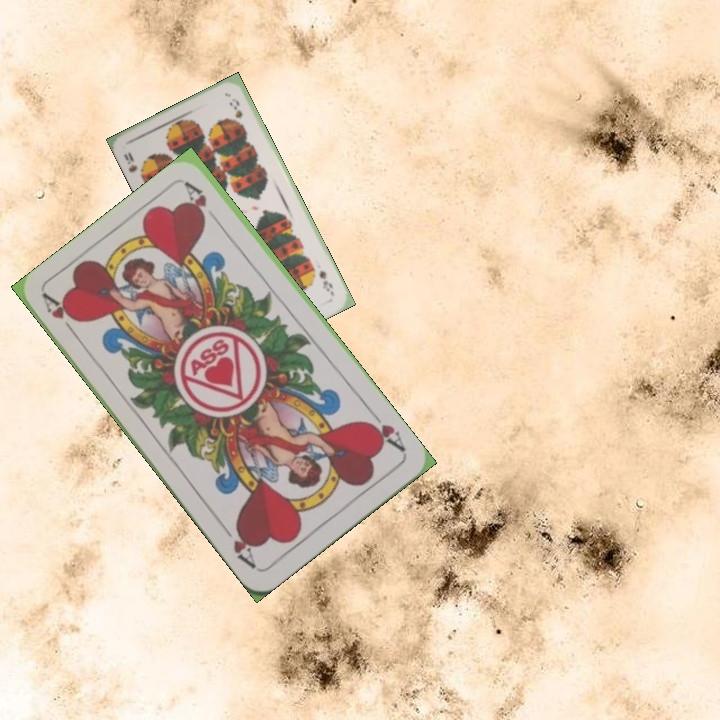HA: (361, 405, 408, 455), (39, 291, 82, 341)
S9: (120, 148, 146, 183), (315, 266, 335, 294)
